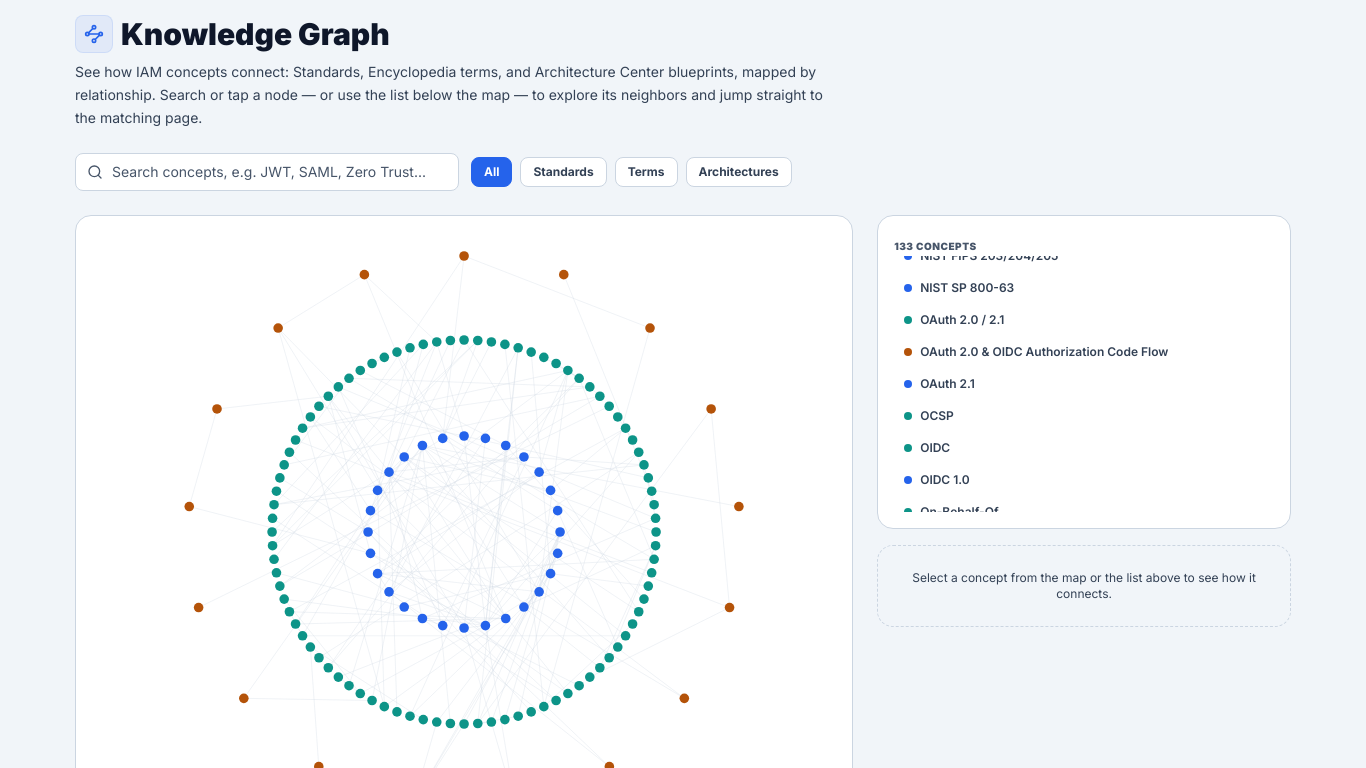
Test: KnowledgeGraph page › shows connected concepts as clickable chips, and clicking one re-selects it
(page scrolled)
Step 1. Click the button with aria-label "open oauth 2.1 details" → coordinates (948, 384), box [894,370,1270,398]
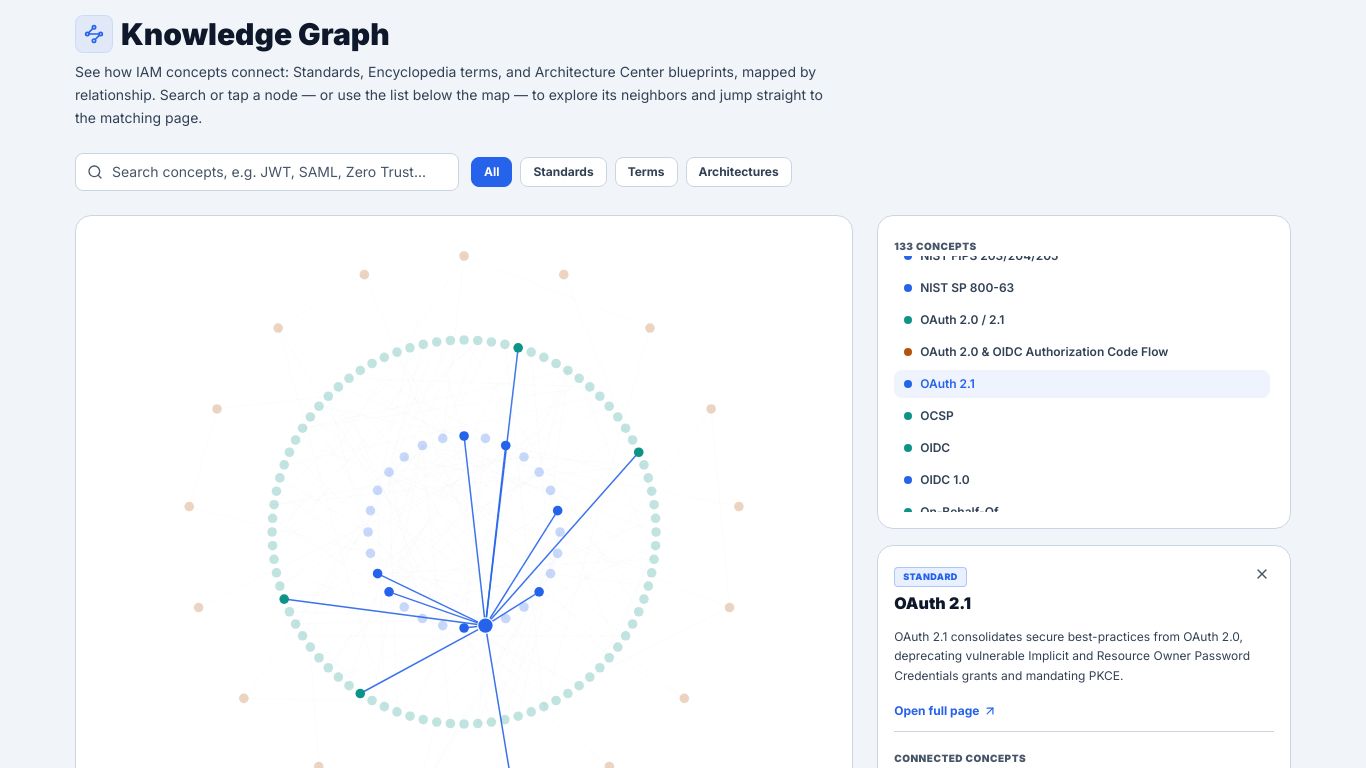
Step 2. Click the button with aria-label "open oidc details" → coordinates (935, 448), box [894,434,1270,462]
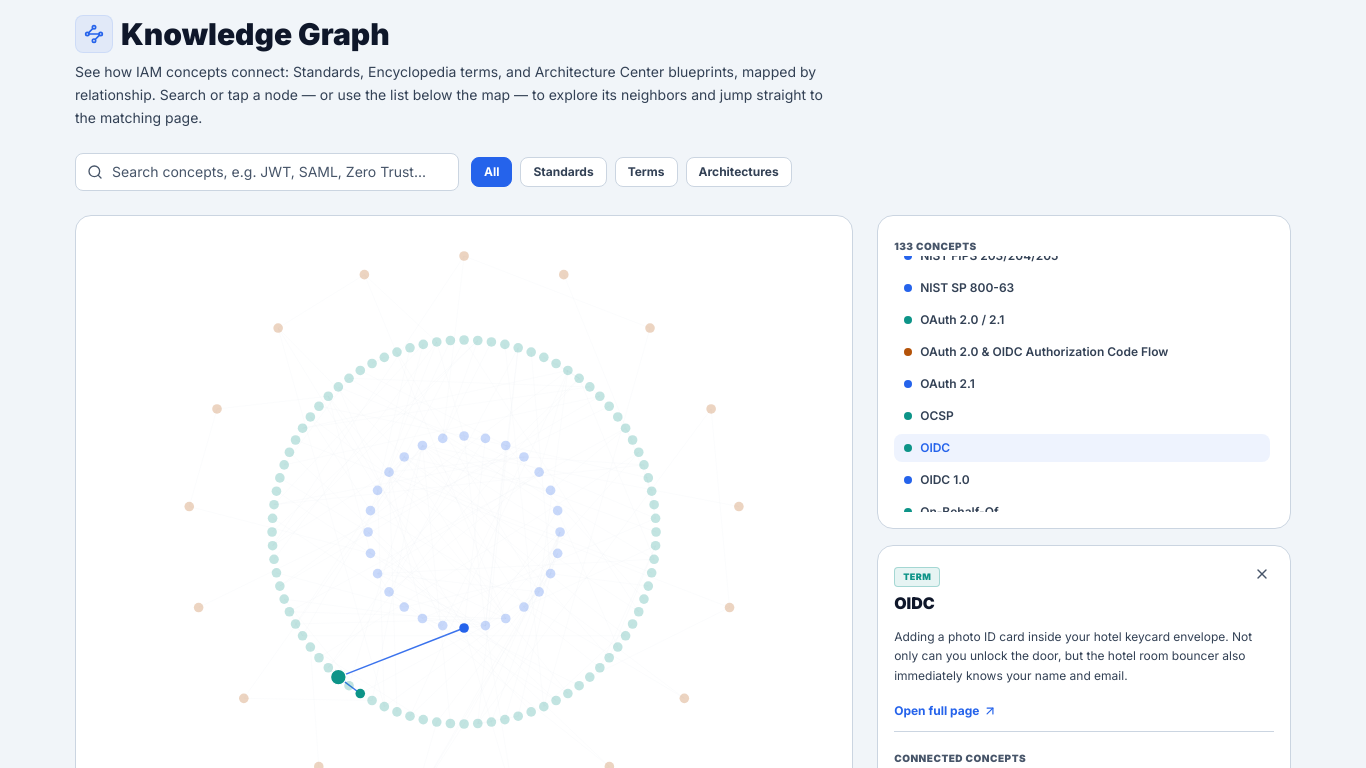
Check: the heading "OIDC" is shown, box [894,591,940,615]
